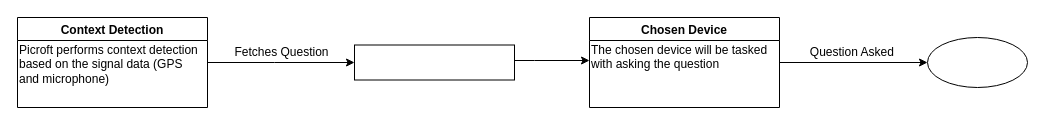
Some shapes in this 1045 by 125 pixel diagram are drawn without their labels. Each missing label, with the centre of its shape:
Question Database: pixel 434 62
User: pixel 977 62
